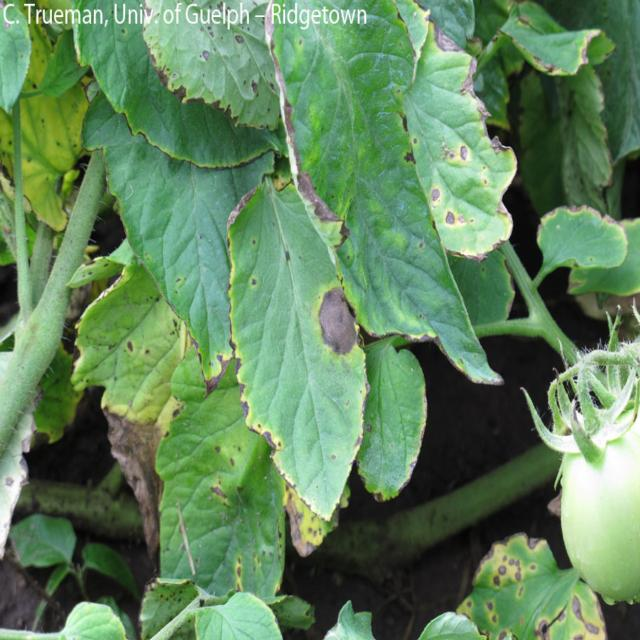Early_blight: (96, 403, 171, 566), (282, 100, 351, 252), (460, 56, 513, 154), (311, 283, 362, 356), (474, 542, 539, 598), (144, 39, 188, 103), (285, 497, 327, 558), (566, 593, 605, 640), (189, 94, 242, 128), (223, 185, 260, 232), (231, 336, 249, 424), (199, 351, 229, 398), (468, 235, 507, 262), (251, 428, 282, 460), (435, 20, 463, 52), (213, 481, 234, 509), (447, 138, 472, 160), (68, 343, 82, 381), (444, 206, 467, 228), (533, 615, 553, 640), (429, 181, 447, 208), (525, 533, 550, 552), (123, 331, 138, 356), (486, 597, 499, 624)
